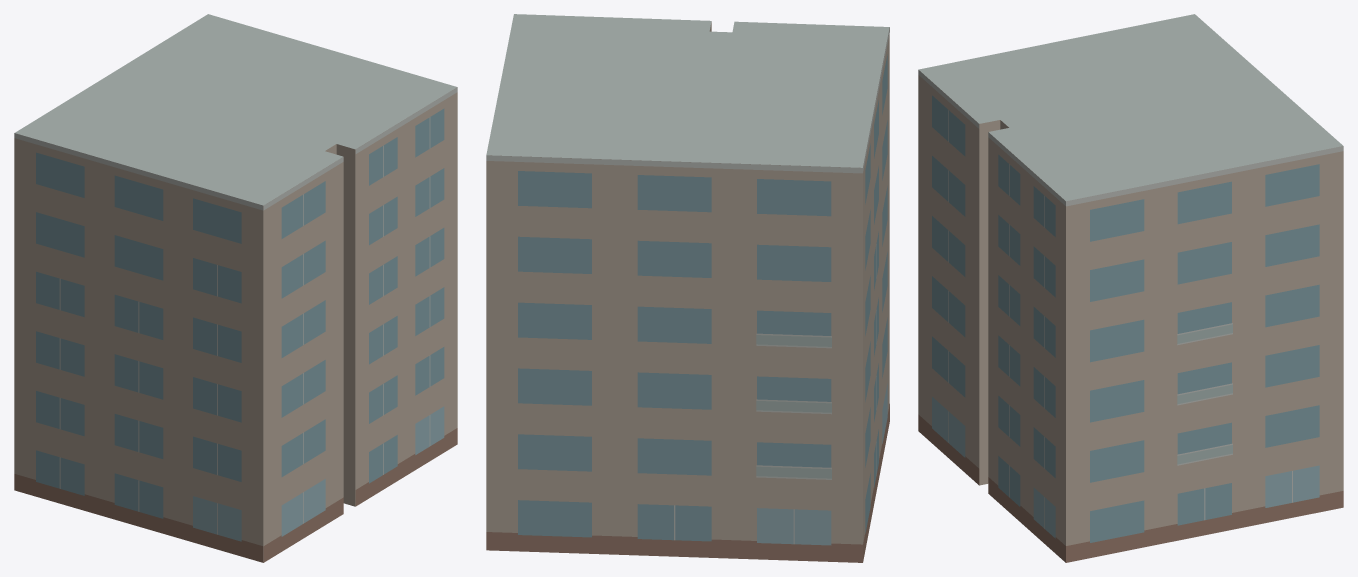
File: survey-upis-32738316.glb
3 renders of one model, left to right at view 1: azimuth 30°, elevation 25°; view 2: azimuth 150°, elevation 25°; view 3: azimuth 270°, elevation 25°, orthographic. The views are drawn at different scales.
Visible parts, largest first — view 1: survey-upis-32738316.tmp; view 2: survey-upis-32738316.tmp; view 3: survey-upis-32738316.tmp.
Boxes of the visible parts, bbox=[...] form: survey-upis-32738316.tmp: bbox=[14, 14, 457, 562]; survey-upis-32738316.tmp: bbox=[486, 14, 889, 562]; survey-upis-32738316.tmp: bbox=[918, 14, 1343, 562].
Size of the model in its own units: 19.06 by 17.15 by 18.29.
